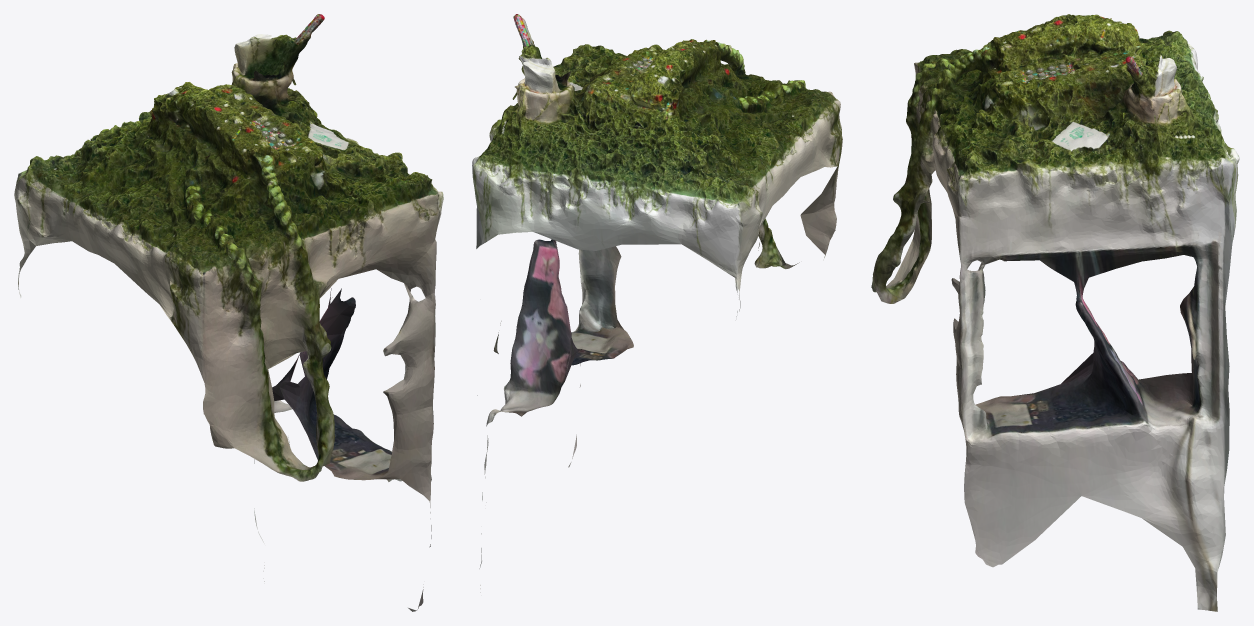
Rendered from aislin_ruya.glb.
3 renders of one model, left to right at view 1: azimuth 30°, elevation 25°; view 2: azimuth 150°, elevation 25°; view 3: azimuth 270°, elevation 25°, orthographic. The views are drawn at different scales.
Bounding box in the file's own units: 1.03 × 1.9 × 1.14.
Materials: 1 (1 with a texture image).
